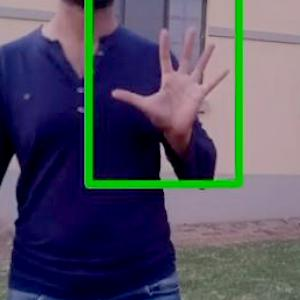follow_hand: (110, 22, 235, 141)
